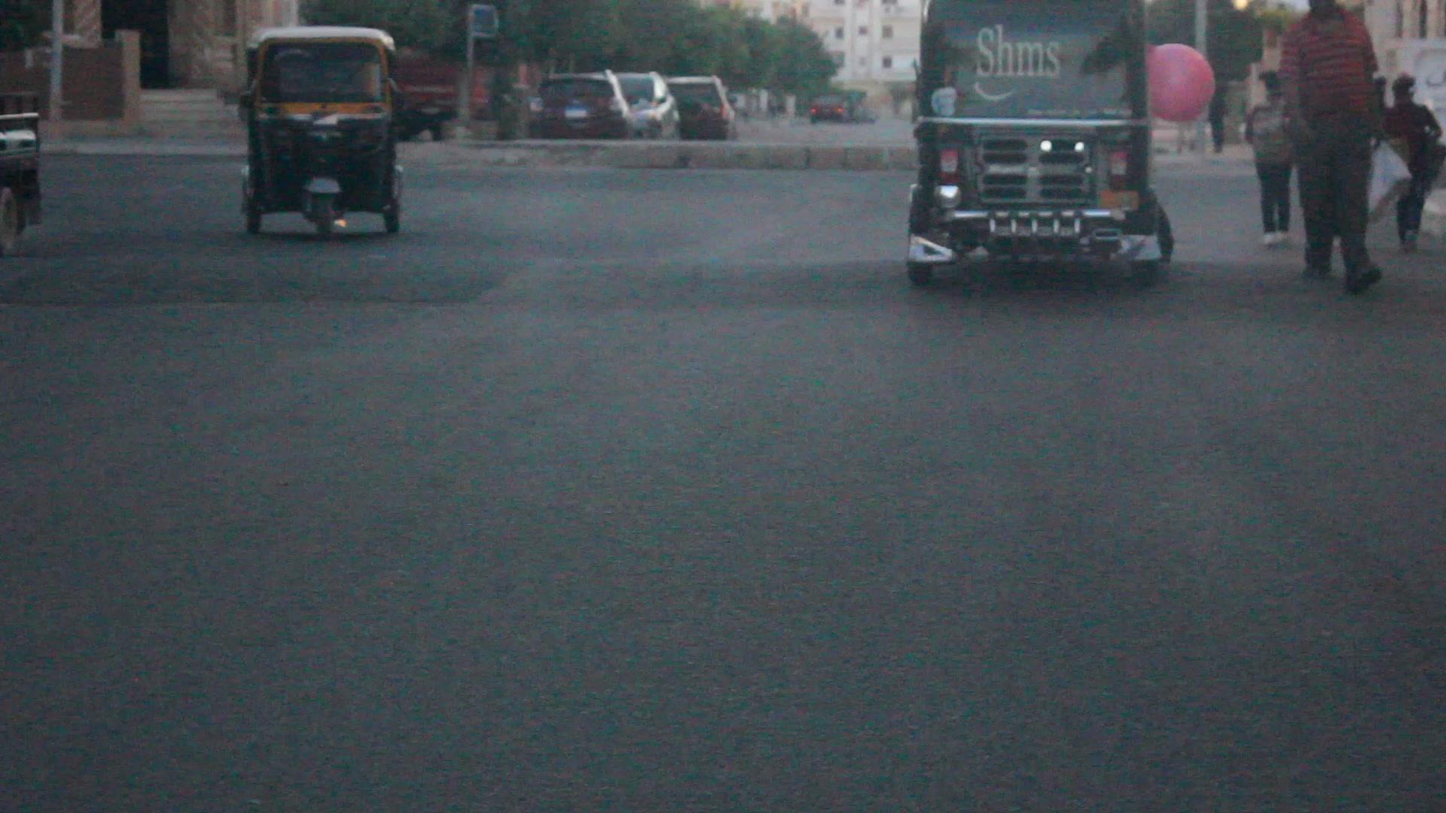Bump: (9, 245, 940, 316), (1175, 250, 1446, 326)
